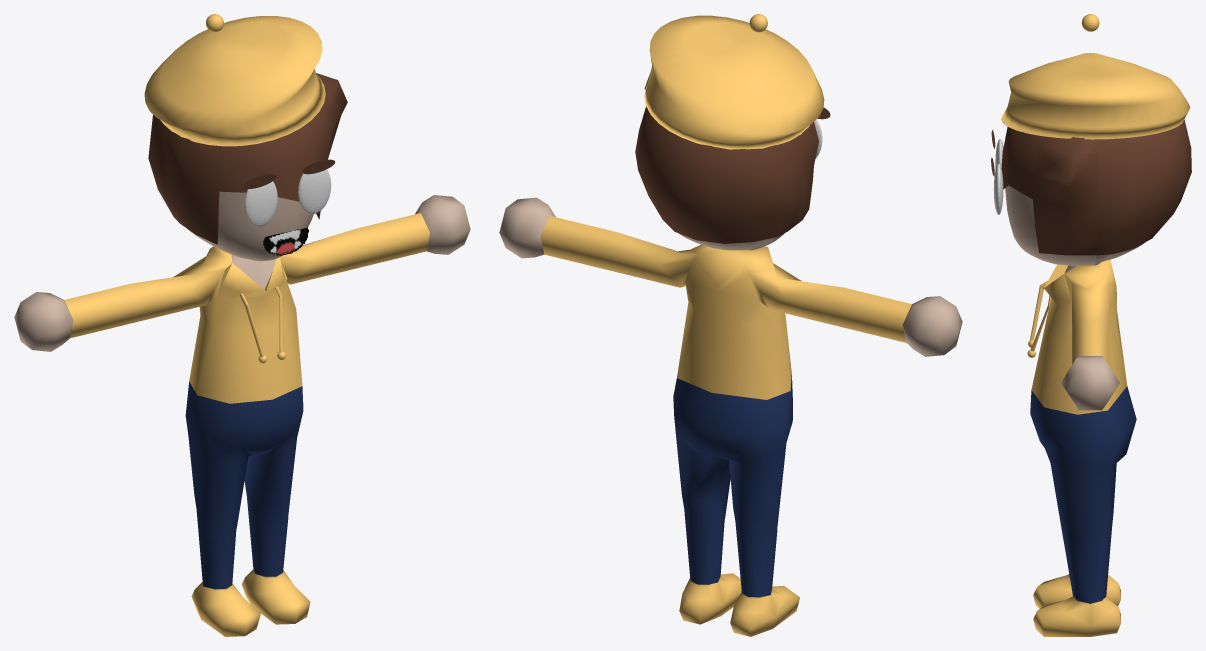
The picture shows the model from 3 angles, left to right: view 1: azimuth 30°, elevation 25°; view 2: azimuth 150°, elevation 25°; view 3: azimuth 270°, elevation 25°; orthographic projection. The views are drawn at different scales.
Parts seen in each view (by area): view 1: Pull, Chaepau, Pantalon, Cheveux, Main, Chaussures, Tete, Oeil droit, Oeuil gauche, Bouche spéculo; view 2: Pull, Chaepau, Pantalon, Cheveux, Main, Chaussures; view 3: Cheveux, Chaepau, Pantalon, Pull, Chaussures, Tete, Main, Oeil droit.
Boxes of the visible parts, <box> form: Pull: <box>64,213,429,403</box>; Chaepau: <box>144,14,325,146</box>; Pantalon: <box>185,381,303,589</box>; Cheveux: <box>148,73,347,244</box>; Main: <box>14,195,470,351</box>; Chaussures: <box>191,569,310,636</box>; Tete: <box>187,191,313,289</box>; Oeil droit: <box>298,169,331,213</box>; Oeuil gauche: <box>244,181,277,226</box>; Bouche spéculo: <box>263,227,308,255</box>; Pull: <box>540,216,911,399</box>; Chaepau: <box>644,14,824,149</box>; Pantalon: <box>673,375,792,597</box>; Cheveux: <box>635,75,818,243</box>; Main: <box>499,197,962,356</box>; Chaussures: <box>679,573,799,636</box>; Cheveux: <box>1001,119,1191,255</box>; Chaepau: <box>1001,14,1190,139</box>; Pantalon: <box>1030,386,1136,603</box>; Pull: <box>1027,259,1127,414</box>; Chaussures: <box>1033,574,1120,636</box>; Tete: <box>1005,185,1144,272</box>; Main: <box>1061,356,1119,410</box>; Oeil droit: <box>993,163,1003,214</box>.
Size of the model in its own units: 144 by 184 by 56.86.
Materials: 5 (1 with a texture image).
